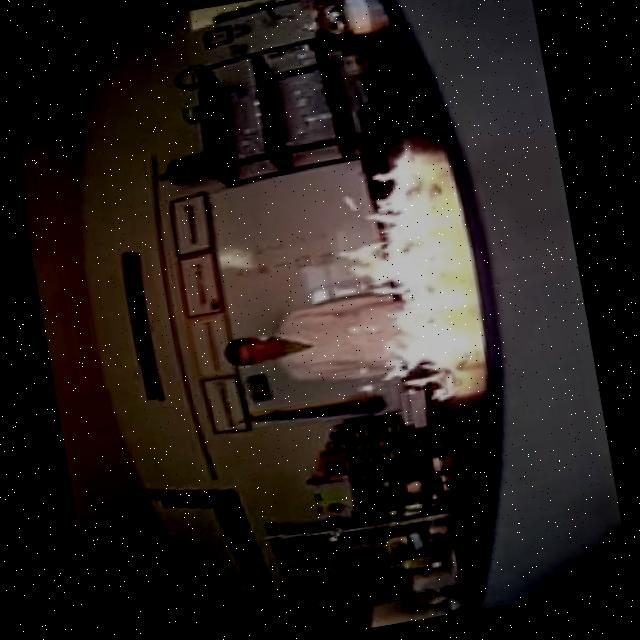Fire: (307, 133, 477, 427)
